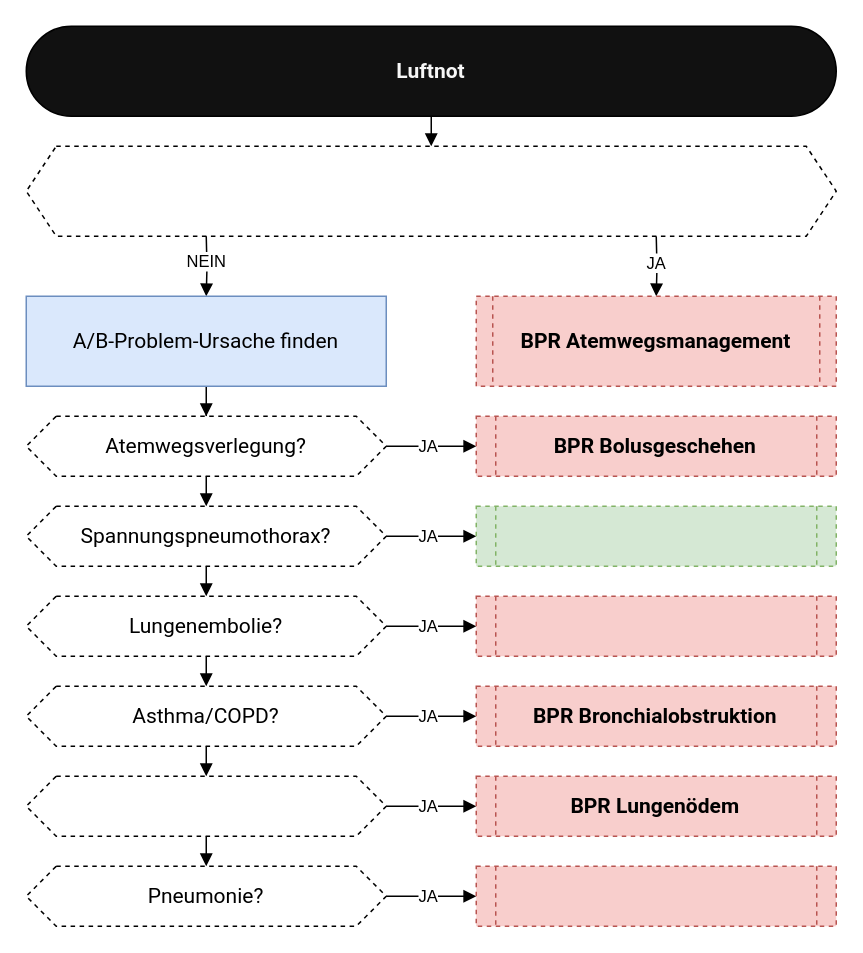
The diagram is 863 pixels wide and 953 high, and some of its shapes have lost their labels. Here are the shapes that lost their labels. From the top down, the centre of each, then its label:
At point 430,190: "Respiratorisches Versagen?".
At point 655,535: "SAA Entlastungspunktion".
At point 655,625: "BPR Lungenarterienembolie".
At point 205,805: "Lungenödem?".
At point 655,895: "BPR Pneumonie".
